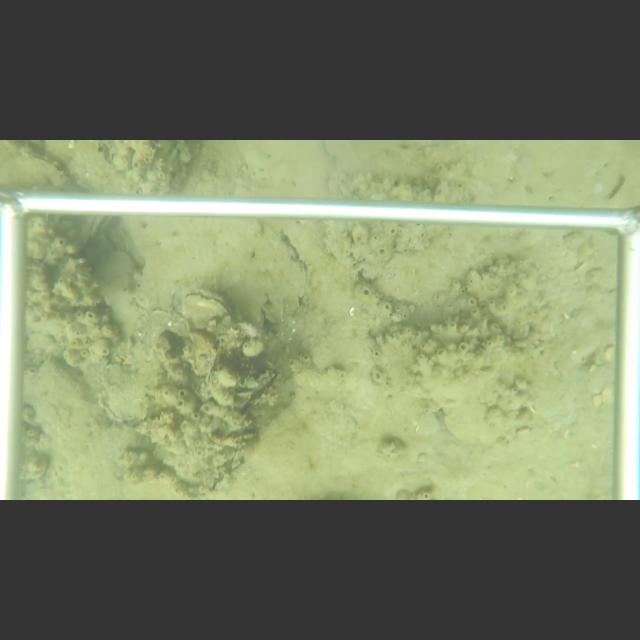Oyster-Closed: (12, 151, 78, 192)
Oyster-Open: (180, 288, 234, 331)
